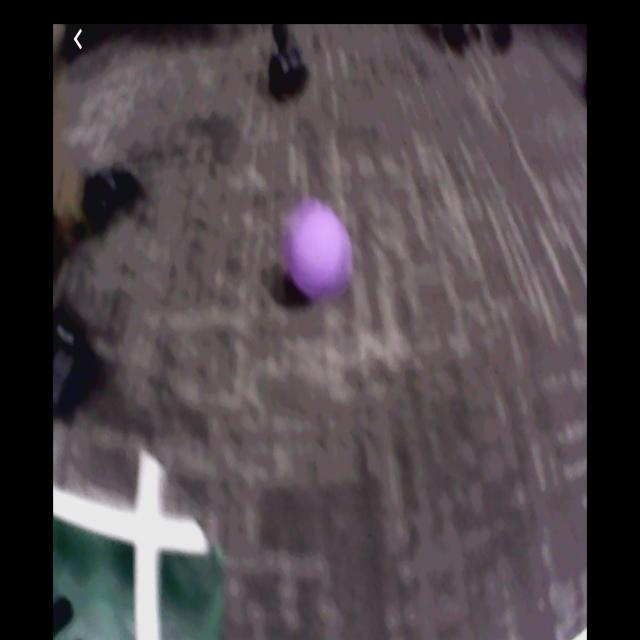ball: (291, 209, 348, 295)
